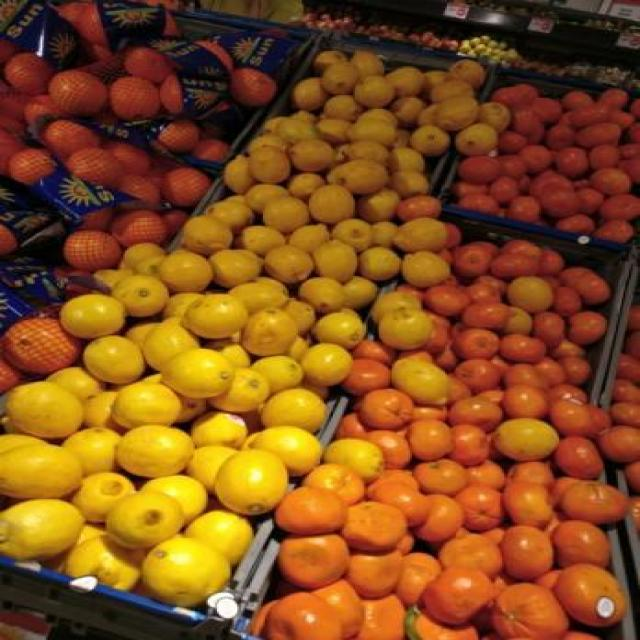Clementine: (431, 566, 498, 626), (500, 524, 561, 579), (502, 588, 568, 638), (353, 497, 412, 549), (412, 451, 476, 497), (454, 241, 495, 272)
